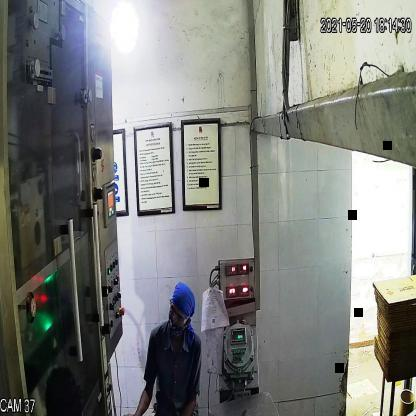goggles: (166, 300, 190, 329)
